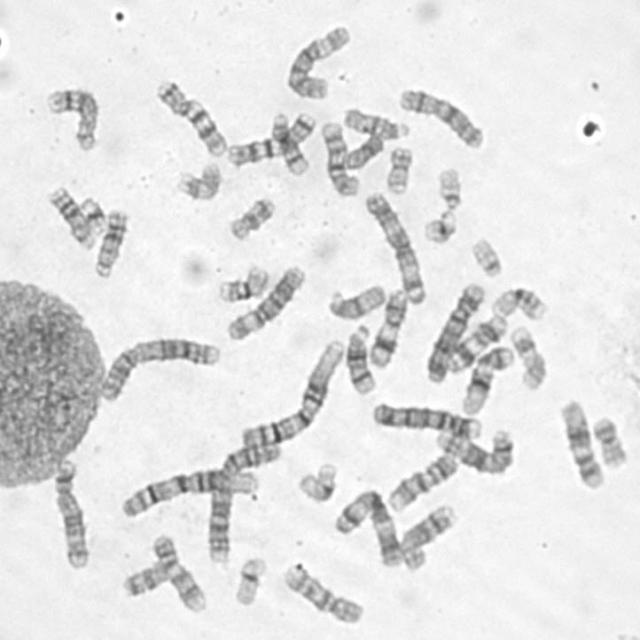A1: (235, 332, 346, 452), (114, 462, 265, 521)
A2: (201, 437, 283, 565), (93, 330, 223, 403)
A3: (359, 184, 429, 306), (329, 483, 404, 569)
B4: (419, 276, 486, 386), (366, 396, 484, 442)
B5: (48, 453, 91, 570), (430, 424, 515, 477)
C10: (278, 557, 366, 627), (316, 114, 361, 198)
C11: (440, 308, 509, 376), (364, 282, 409, 370)
C12: (555, 393, 606, 491), (457, 339, 515, 416)
C6: (220, 259, 306, 342), (280, 19, 353, 100)
C7: (150, 73, 229, 158), (221, 106, 317, 169)
C8: (394, 498, 458, 573), (41, 81, 101, 153)
C9: (146, 528, 208, 615), (382, 448, 460, 512)
D13: (42, 180, 98, 250), (89, 203, 130, 280)
D14: (265, 107, 312, 177), (341, 319, 378, 396)
D15: (338, 100, 411, 140), (322, 278, 387, 322)
E16: (212, 258, 272, 304), (486, 280, 550, 322)
E17: (505, 320, 549, 392), (172, 156, 223, 202)
E18: (116, 538, 177, 599), (222, 191, 276, 242)
F19: (228, 550, 268, 608), (292, 456, 340, 504)
F20: (587, 410, 629, 470), (380, 140, 415, 196)
G21: (418, 206, 458, 246), (75, 190, 108, 235)
G22: (466, 231, 506, 279), (432, 161, 464, 212)
X: (394, 81, 486, 151)
Y: (338, 125, 386, 170)
